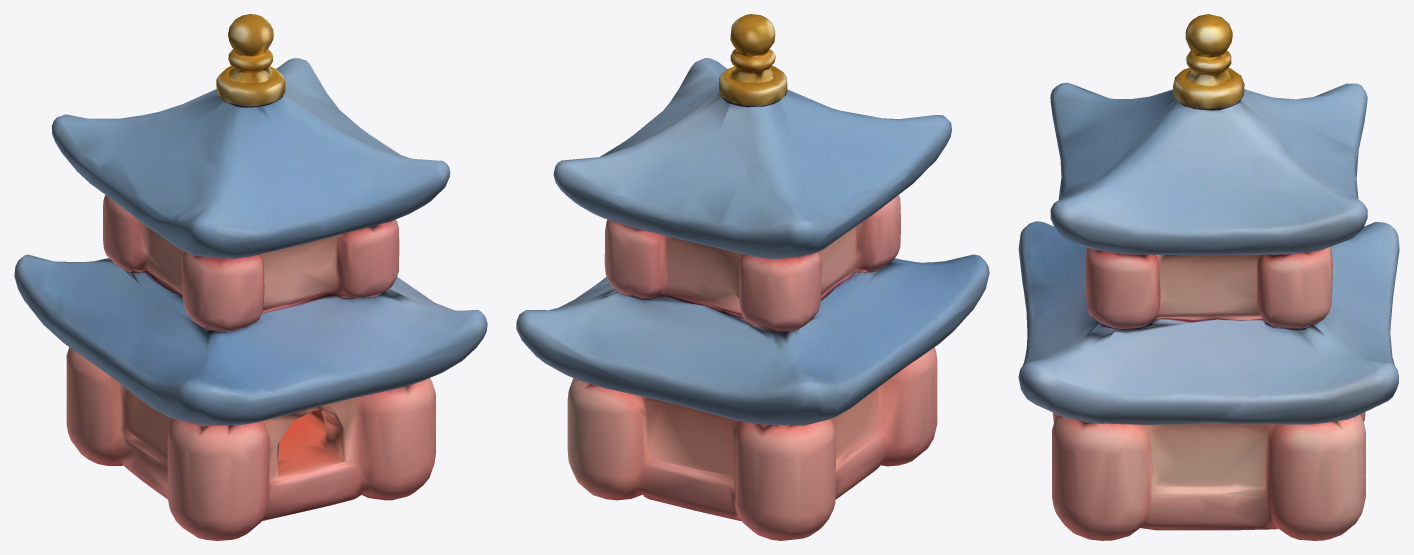
The model's file is temple.glb.
3 renders of one model, left to right at view 1: azimuth 30°, elevation 25°; view 2: azimuth 150°, elevation 25°; view 3: azimuth 270°, elevation 25°, orthographic. The views are drawn at different scales.
Visible parts, largest first — view 1: tripo_node_5d0891b3-95ef-429f-a21f-4a0948dcd5a7; view 2: tripo_node_5d0891b3-95ef-429f-a21f-4a0948dcd5a7; view 3: tripo_node_5d0891b3-95ef-429f-a21f-4a0948dcd5a7.
Boxes of the visible parts, box(x1,y1,x2,y2) form: tripo_node_5d0891b3-95ef-429f-a21f-4a0948dcd5a7: box(14, 14, 487, 540); tripo_node_5d0891b3-95ef-429f-a21f-4a0948dcd5a7: box(516, 14, 989, 540); tripo_node_5d0891b3-95ef-429f-a21f-4a0948dcd5a7: box(1018, 14, 1399, 540).
Bounding box in the file's own units: 0.7053 × 0.9998 × 0.7342.
Materials: 1 (1 with a texture image).
